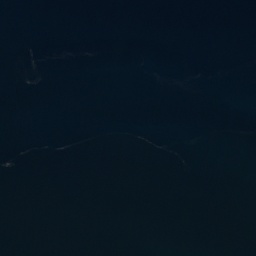Marine Debris: (25, 76, 42, 86), (2, 161, 12, 168)
